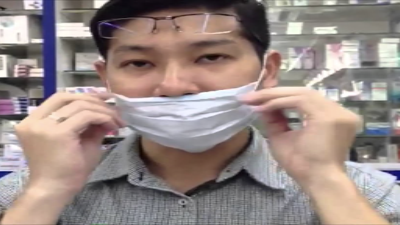mask_weared_incorrect: (101, 37, 262, 154)
